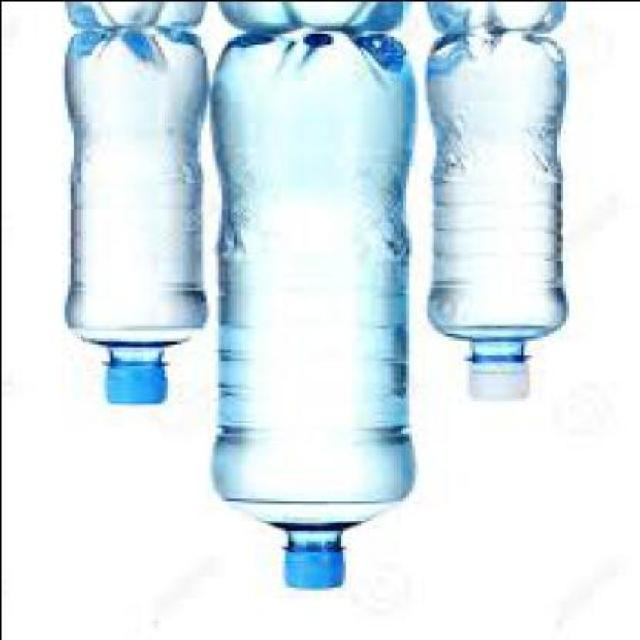PLASTIC: (217, 27, 417, 591), (429, 27, 571, 405), (67, 27, 208, 405), (108, 364, 172, 408), (471, 362, 534, 404), (287, 552, 350, 588)
